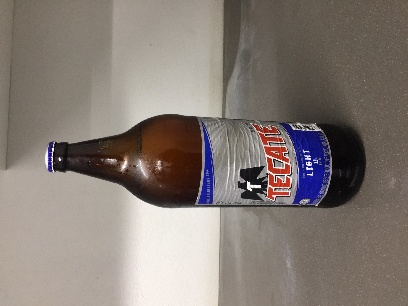TLB: (29, 81, 266, 153)
